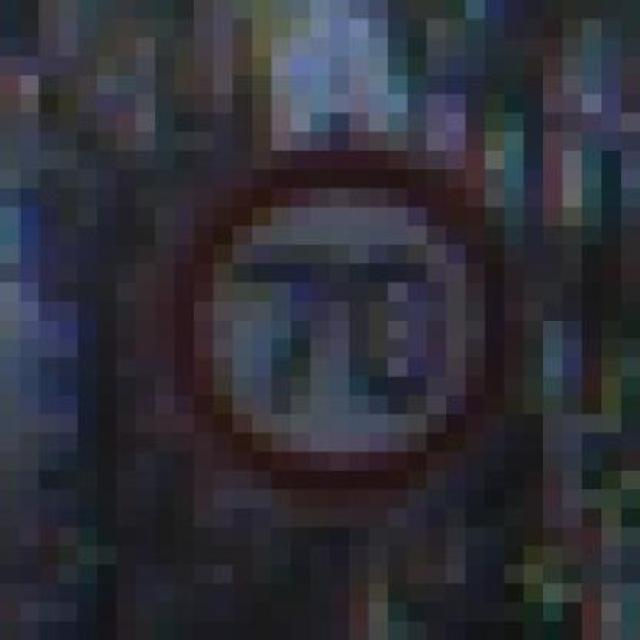forb_speed_over_70: (177, 160, 511, 495)
